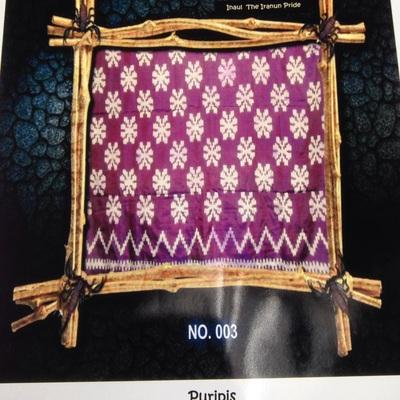malong: (81, 40, 337, 273)
